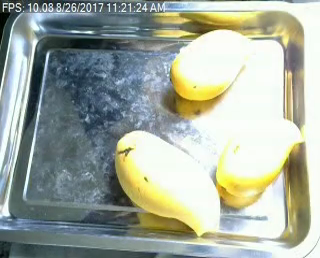Mango: (115, 129, 219, 236), (214, 117, 303, 195), (170, 28, 252, 99)
